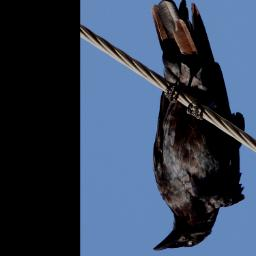Crow: (149, 0, 246, 254)
